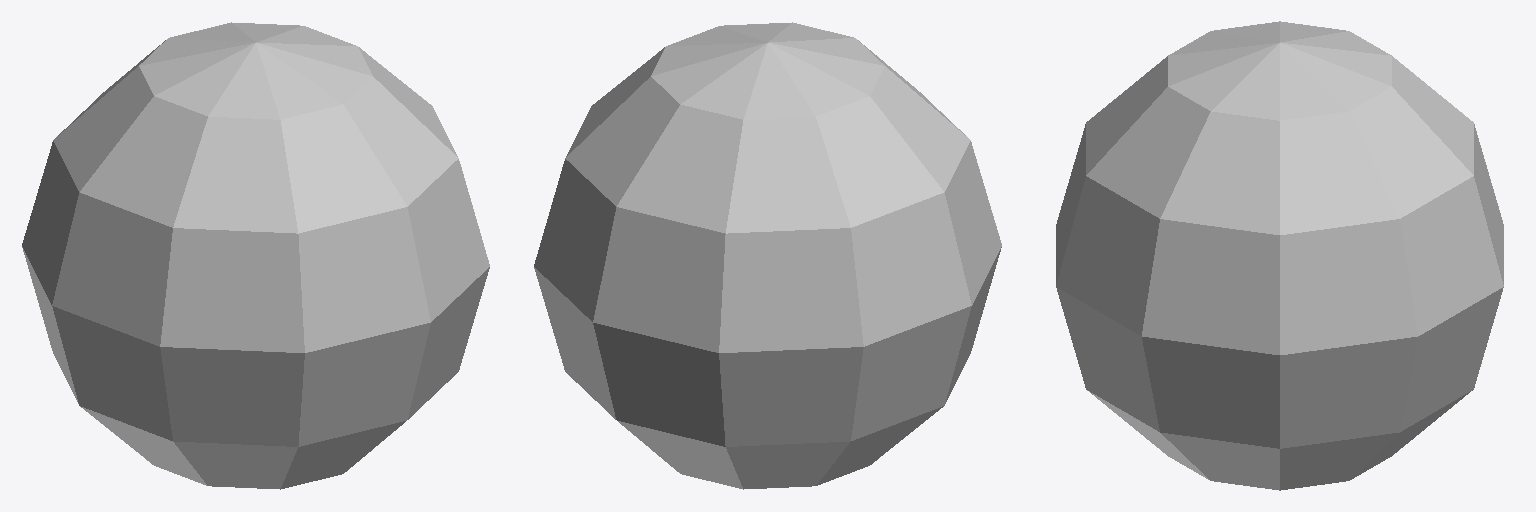
The model's file is Core_V_Sphere.obj.
3 renders of one model, left to right at view 1: azimuth 30°, elevation 25°; view 2: azimuth 150°, elevation 25°; view 3: azimuth 270°, elevation 25°, orthographic.
Parts seen in each view (by area): view 1: Core_V_Sphere_Core_V_Sphere_Mesh; view 2: Core_V_Sphere_Core_V_Sphere_Mesh; view 3: Core_V_Sphere_Core_V_Sphere_Mesh.
Part boxes in pixels (x1,y1,x2,y2): Core_V_Sphere_Core_V_Sphere_Mesh: (22,22,489,489); Core_V_Sphere_Core_V_Sphere_Mesh: (534,22,1001,489); Core_V_Sphere_Core_V_Sphere_Mesh: (1056,21,1503,490).
Bounding box in the file's own units: 0.2077 × 0.2077 × 0.1976.